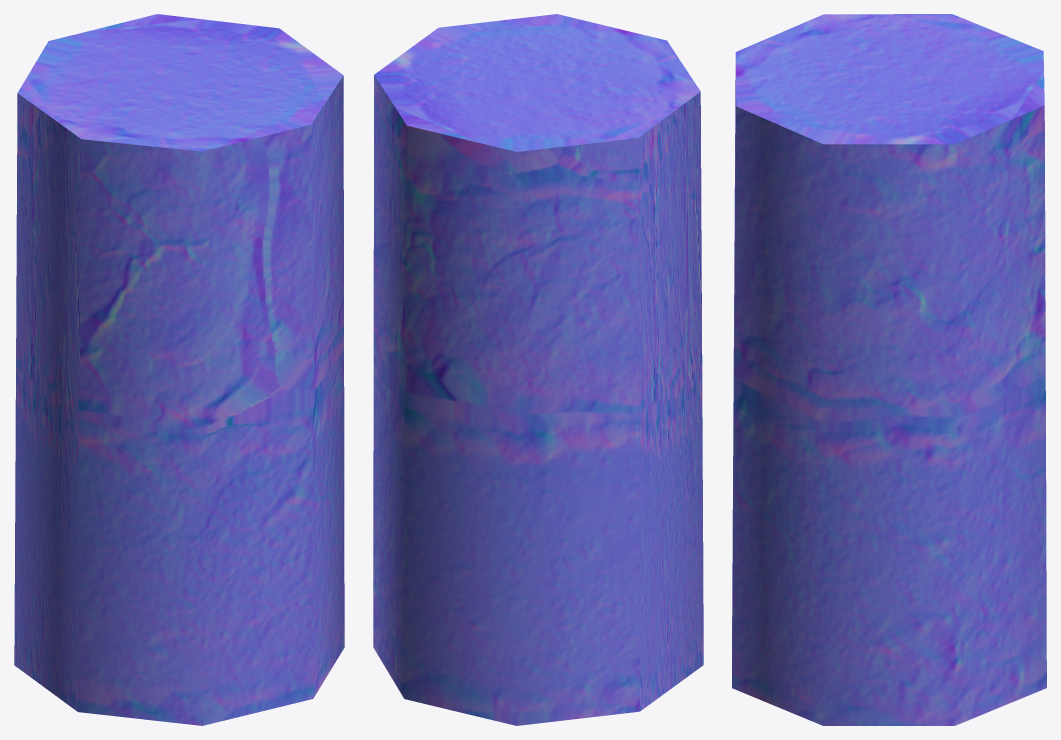
File: pillar_middle_01a_LOD2.fbx
3 views of the same model, side by side, from view 1: azimuth 30°, elevation 25°; view 2: azimuth 150°, elevation 25°; view 3: azimuth 270°, elevation 25° (orthographic).
Visible parts, largest first — view 1: pillar_middle_01a_LOD2; view 2: pillar_middle_01a_LOD2; view 3: pillar_middle_01a_LOD2.
Part boxes in pixels (x1,y1,x2,y2): pillar_middle_01a_LOD2: (14, 14, 344, 725); pillar_middle_01a_LOD2: (373, 14, 703, 725); pillar_middle_01a_LOD2: (732, 14, 1046, 725).
Size of the model in its own units: 31.09 by 31.35 by 63.92.
1 material, 1 textured.
